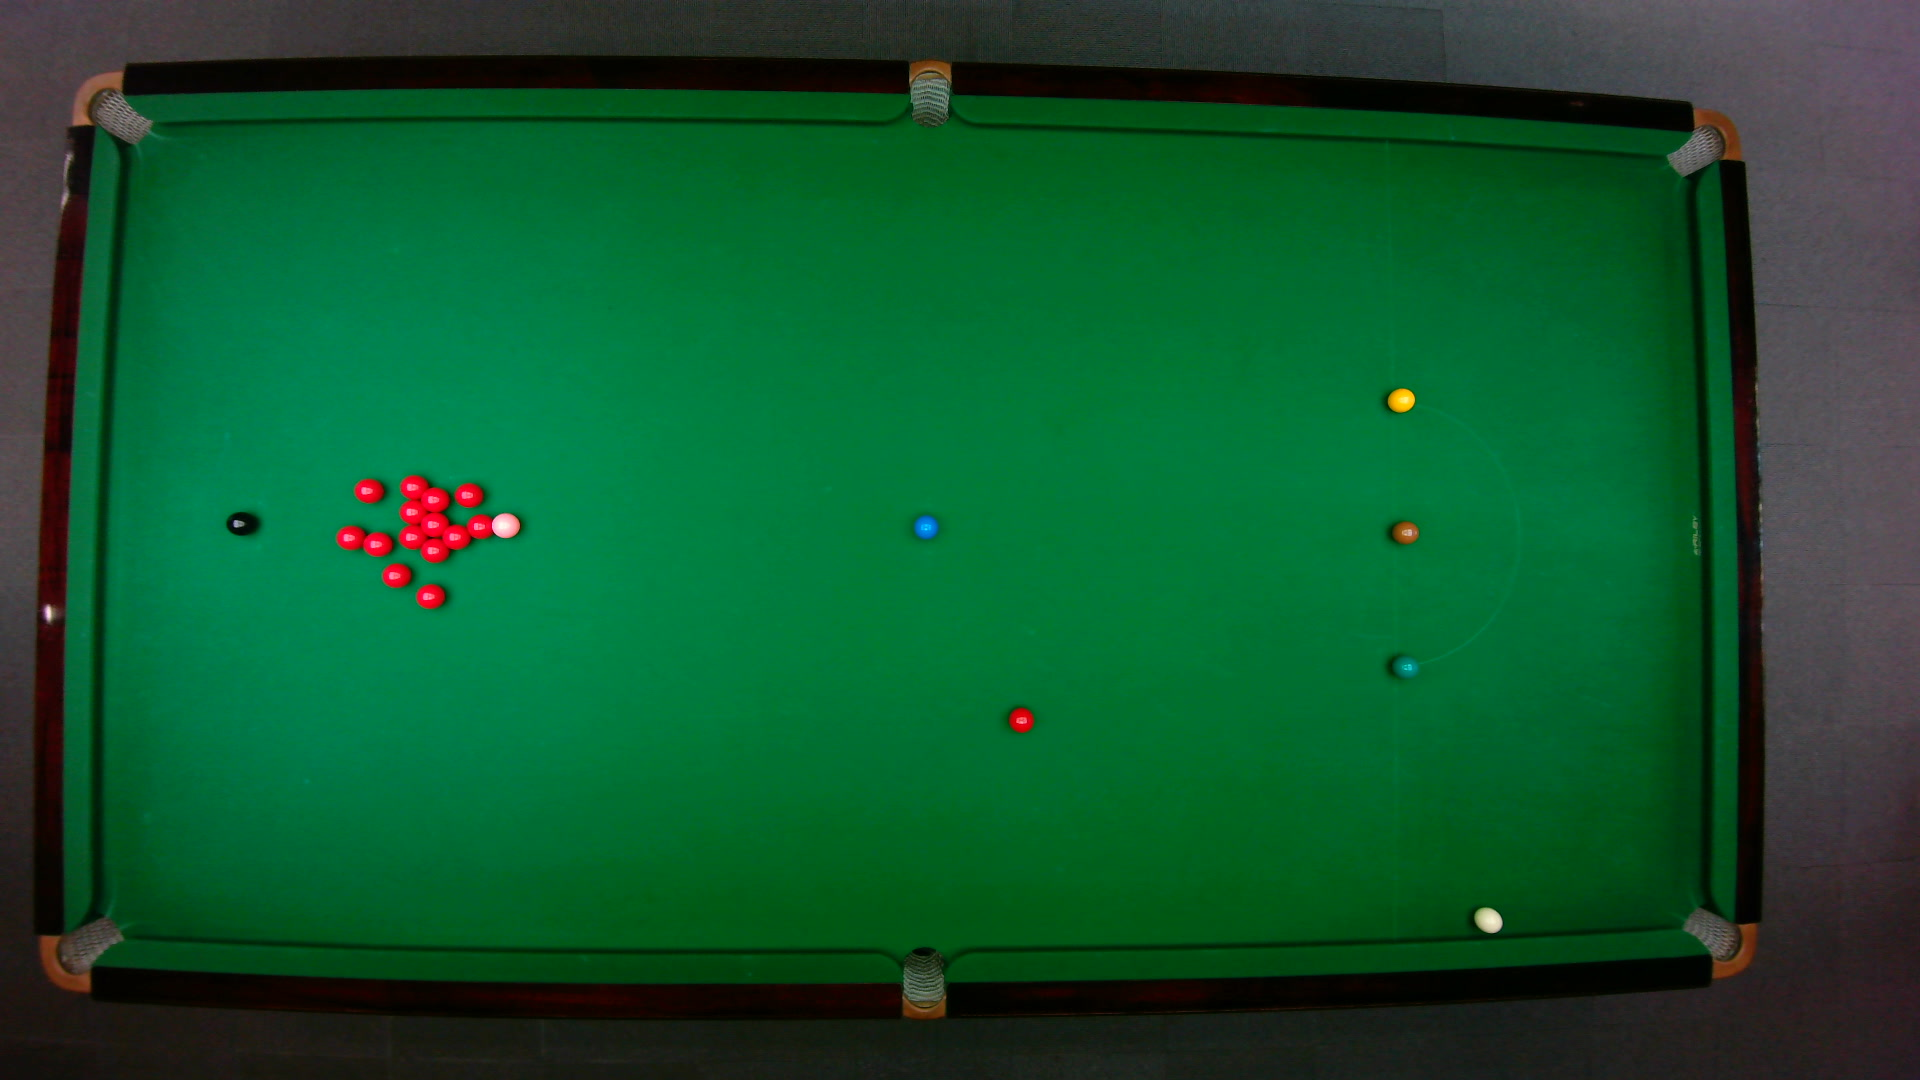bag: (37, 914, 125, 993), (69, 69, 152, 145), (1677, 905, 1756, 978), (1663, 107, 1741, 177), (901, 944, 944, 1021), (909, 57, 949, 128)
black: (224, 510, 256, 535)
blue: (913, 512, 939, 541)
brown: (1390, 520, 1419, 545)
green: (1389, 651, 1419, 679)
pink: (488, 512, 521, 539)
red: (359, 529, 393, 556), (378, 560, 411, 588), (414, 582, 446, 609), (352, 476, 385, 502), (334, 524, 365, 550), (440, 522, 471, 549), (419, 537, 450, 563), (454, 480, 484, 506), (419, 485, 450, 512), (1006, 705, 1034, 733), (397, 524, 427, 549), (398, 473, 429, 498), (465, 512, 492, 539), (419, 512, 448, 535), (398, 500, 423, 522)
white: (1472, 905, 1503, 934)
yellow: (1385, 386, 1416, 413)
zone: (1389, 400, 1519, 665)
